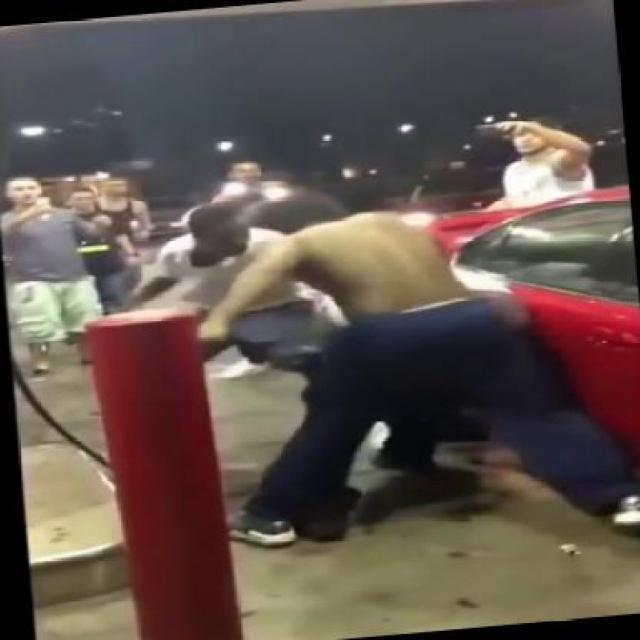fight: (127, 177, 553, 554)
non-fight: (0, 164, 135, 373), (476, 108, 599, 210)
